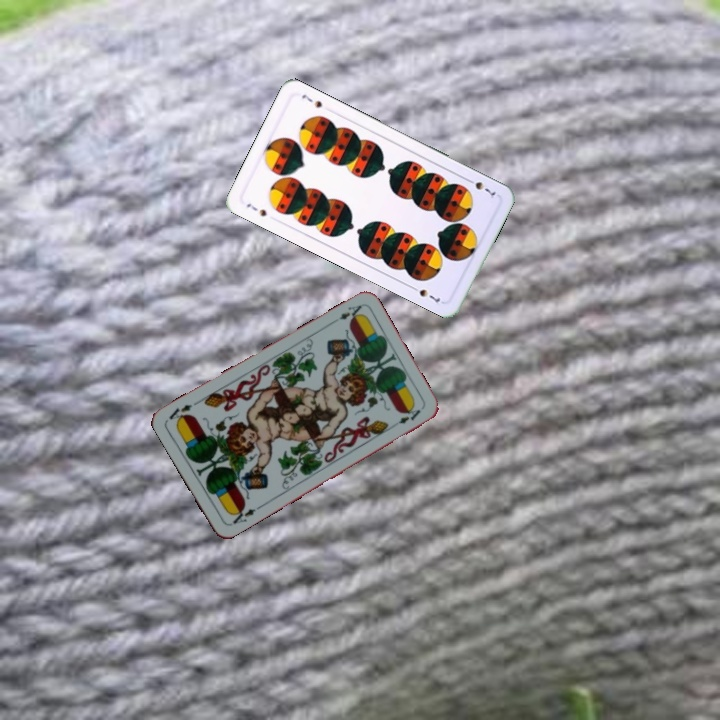EA: (226, 502, 263, 528), (335, 301, 366, 323)
S7: (462, 174, 498, 201), (242, 199, 269, 219)
